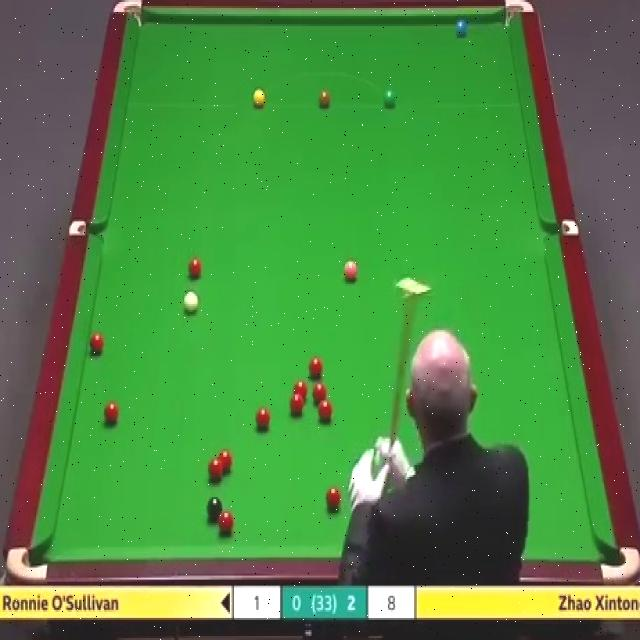black-ball: (206, 496, 223, 522)
blue-ball: (454, 17, 470, 41)
brown-ball: (318, 89, 331, 110)
green-ball: (381, 89, 395, 110)
pink-ball: (342, 256, 361, 284)
red-ball: (101, 398, 120, 428), (217, 510, 235, 537), (206, 458, 225, 483), (325, 486, 342, 513), (88, 332, 105, 357), (308, 355, 323, 382), (256, 408, 272, 432), (288, 393, 304, 417), (187, 256, 203, 279), (318, 398, 333, 422), (218, 448, 234, 470), (292, 379, 308, 400), (312, 383, 328, 402)
white-ball: (182, 289, 199, 316)
yellow-ball: (252, 88, 266, 109)
